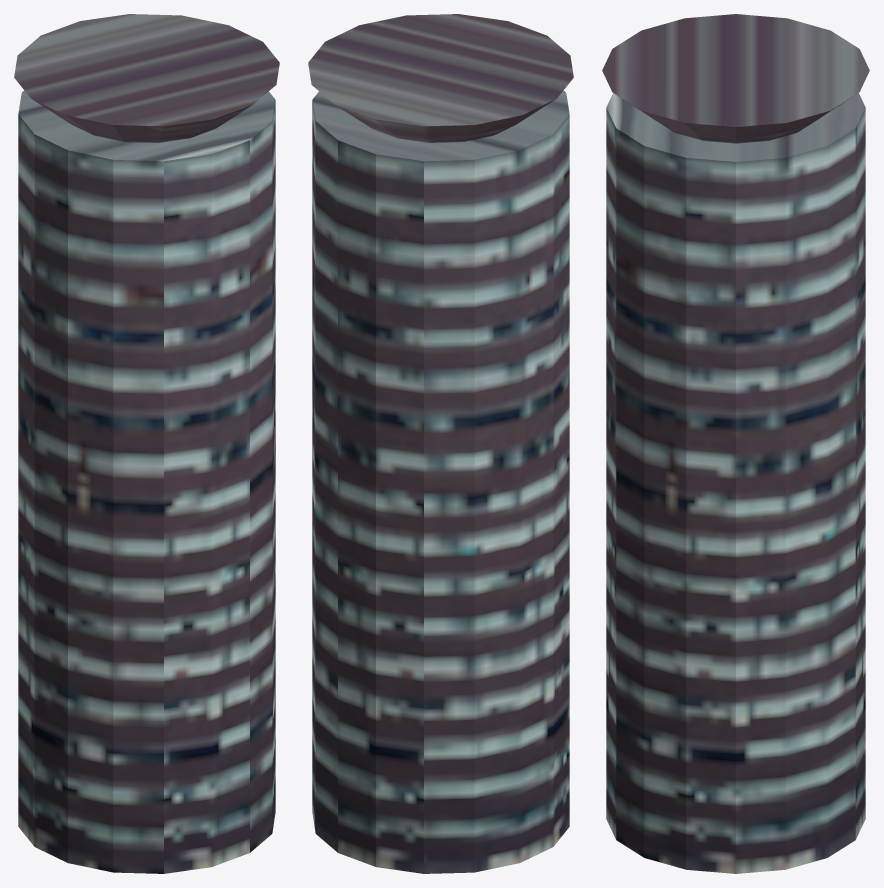
The model's file is Building10.fbx.
The picture shows the model from 3 angles, left to right: view 1: azimuth 30°, elevation 25°; view 2: azimuth 150°, elevation 25°; view 3: azimuth 270°, elevation 25°; orthographic projection.
Parts seen in each view (by area): view 1: newassets_spiral_building; view 2: newassets_spiral_building; view 3: newassets_spiral_building.
Boxes of the visible parts, <box> form: newassets_spiral_building: <box>14,14,279,873</box>; newassets_spiral_building: <box>308,14,573,873</box>; newassets_spiral_building: <box>602,14,869,873</box>.
Bounding box in the file's own units: 21180 × 65334 × 21180.
Materials: 1 (1 with a texture image).
